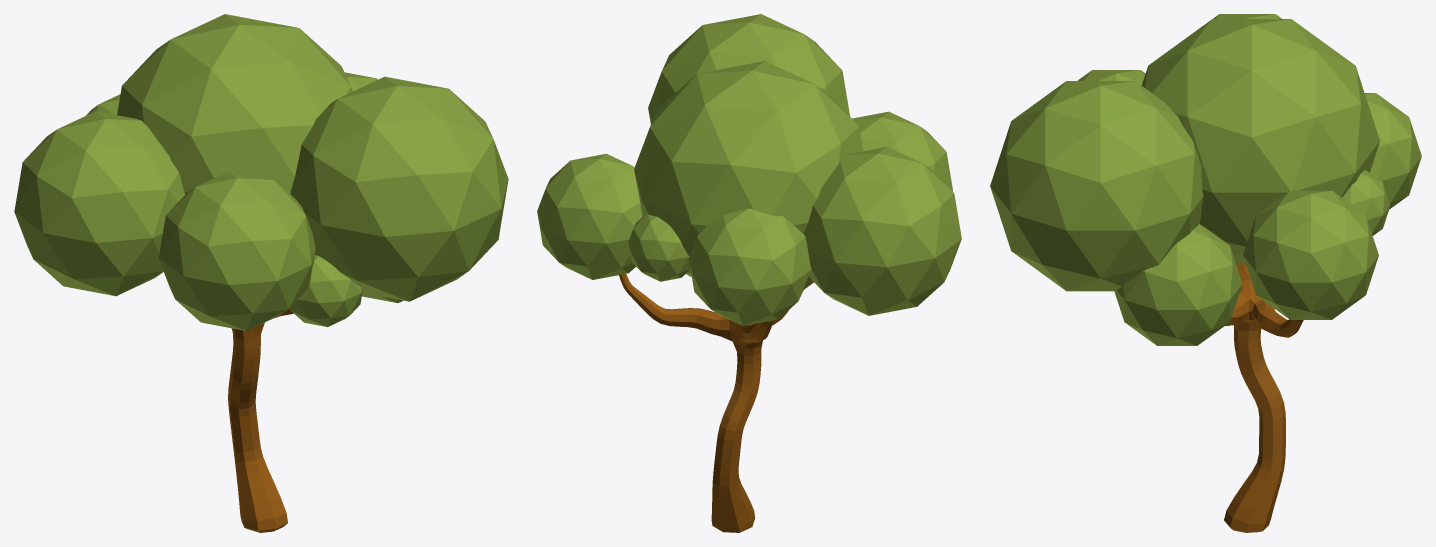
File: TreewShadow_1a.fbx
3 views of the same model, side by side, from view 1: azimuth 30°, elevation 25°; view 2: azimuth 150°, elevation 25°; view 3: azimuth 270°, elevation 25° (orthographic). The views are drawn at different scales.
Visible parts, largest first — view 1: Plane.006; view 2: Plane.006; view 3: Plane.006.
Boxes of the visible parts, x1=… form: Plane.006: x1=14, y1=14, x2=508, y2=532; Plane.006: x1=537, y1=14, x2=961, y2=532; Plane.006: x1=990, y1=14, x2=1421, y2=532.
Size of the model in its own units: 575 by 684 by 544.
